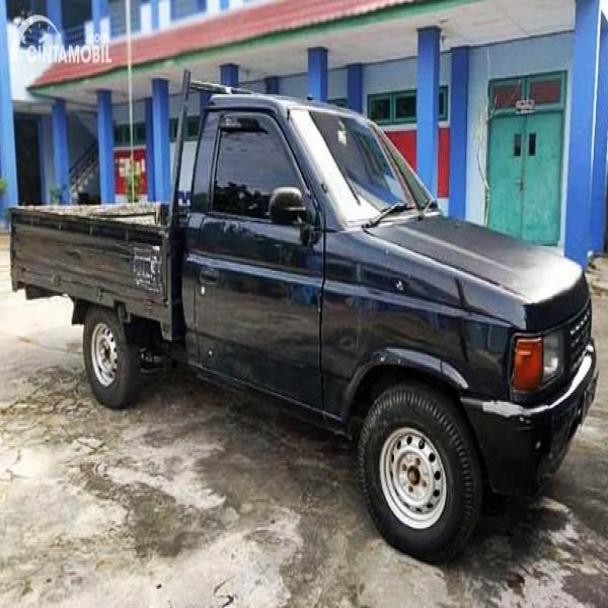Mobil: (5, 63, 599, 563)
